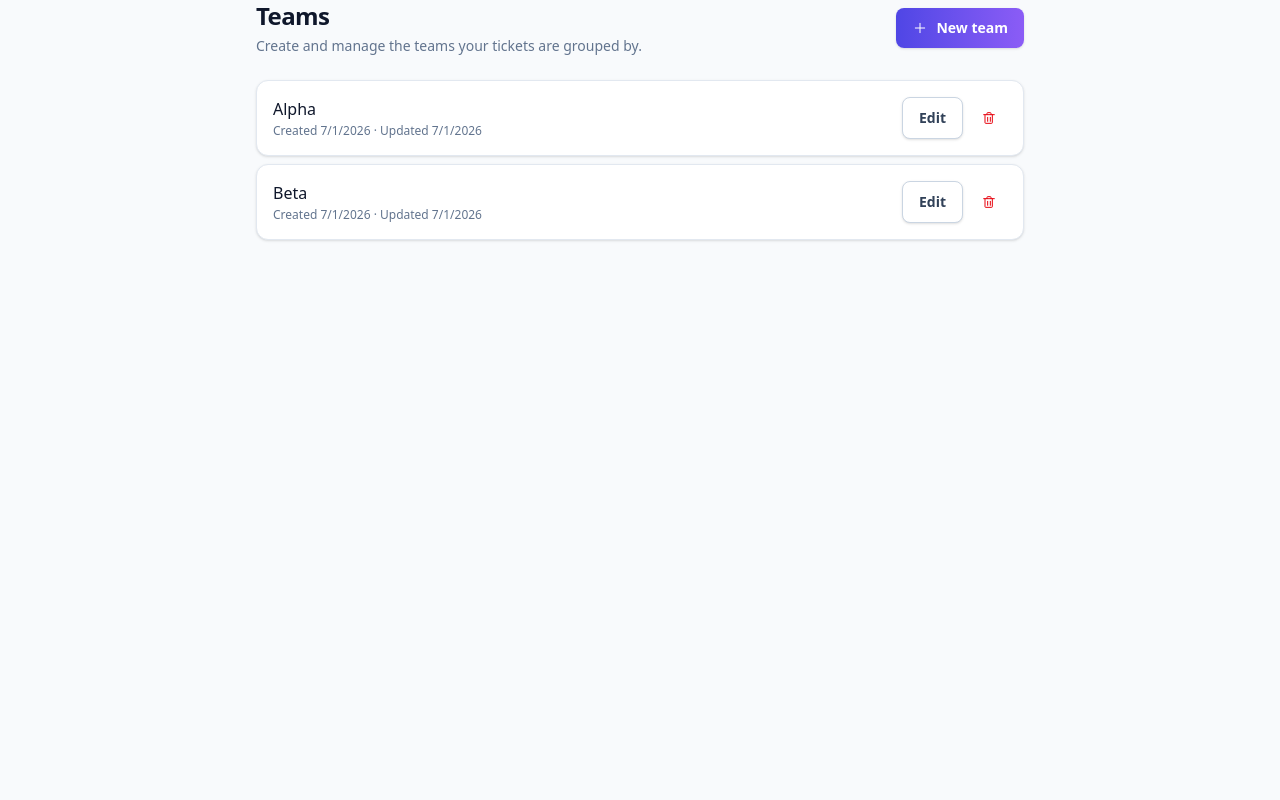
it: deleting a team confirms and DELETEs
Check: the text "Alpha" is shown, box top-left (273, 98), bottom-right (316, 120)
Click the button named "Delete Alpha": (989, 118) top-left (971, 102), bottom-right (1007, 134)
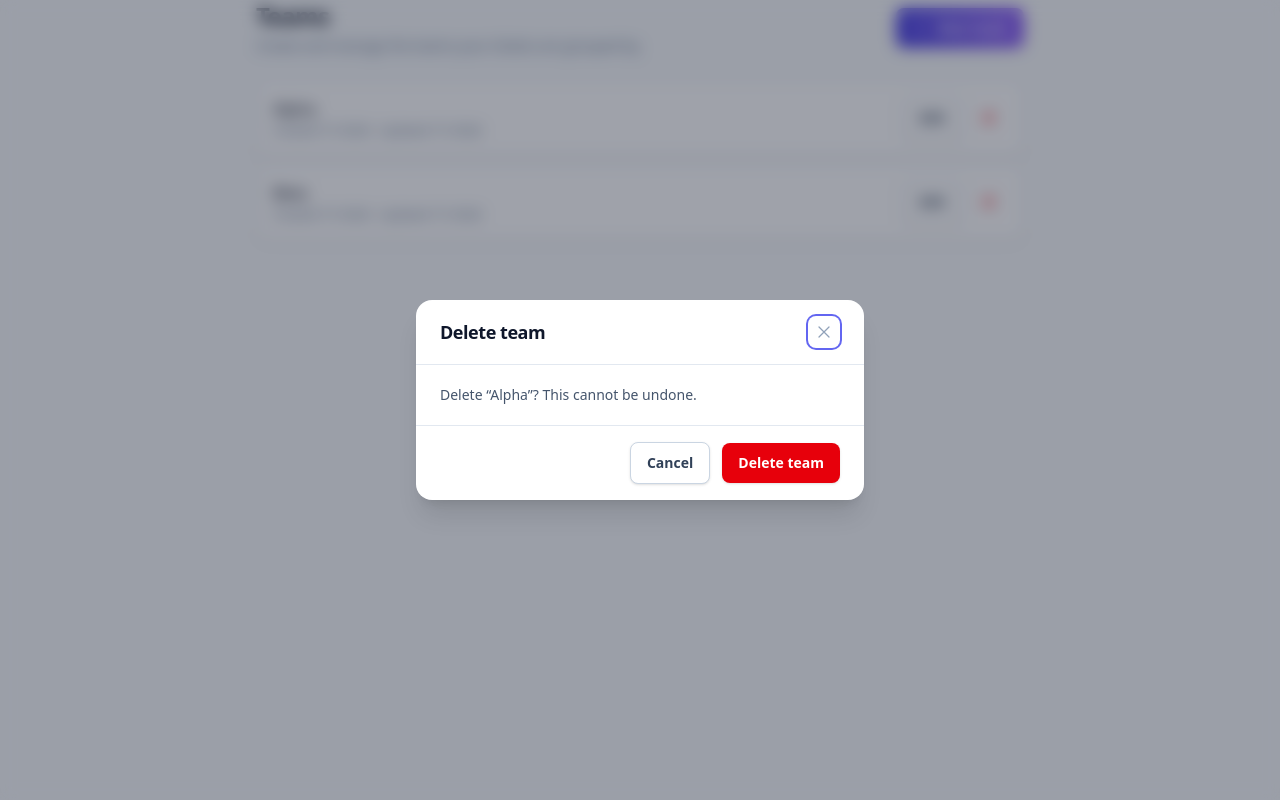
Click the button "Delete team": (781, 463) top-left (722, 443), bottom-right (840, 483)
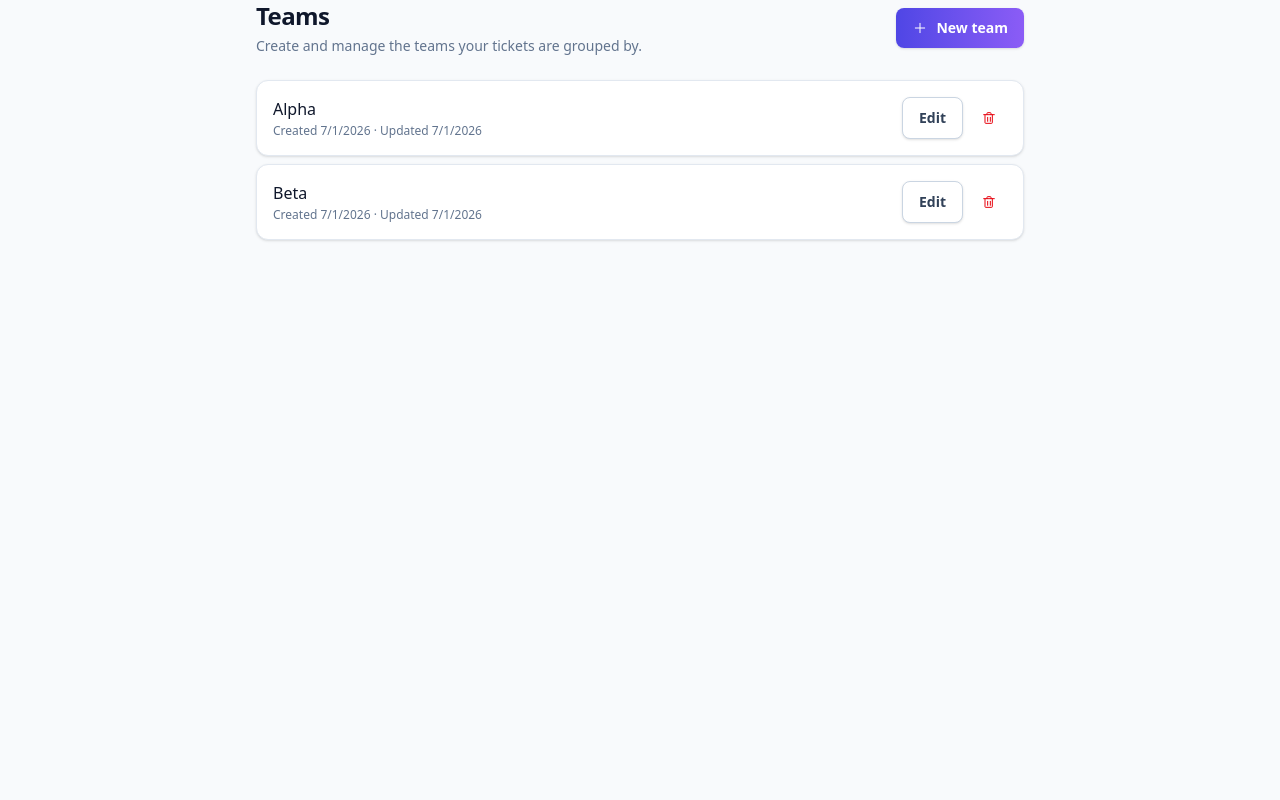
Check: the heading "Delete team" is gone
